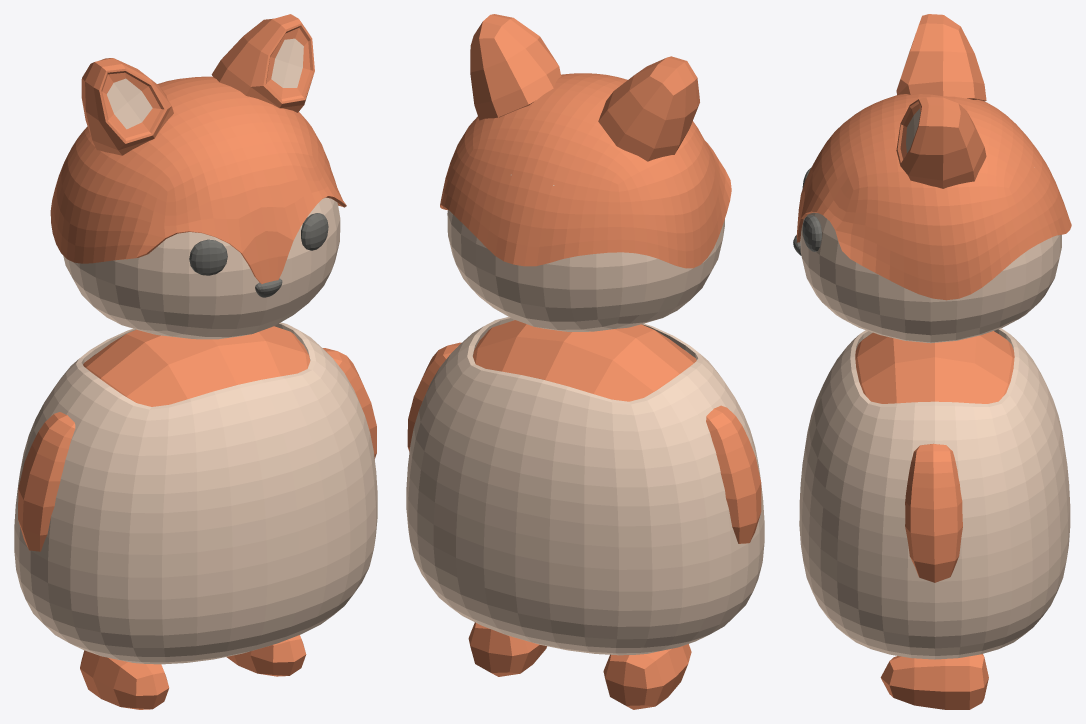
Rendered from foxy.fbx.
3 views of the same model, side by side, from view 1: azimuth 30°, elevation 25°; view 2: azimuth 150°, elevation 25°; view 3: azimuth 270°, elevation 25° (orthographic). The views are drawn at different scales.
Parts seen in each view (by area): view 1: Cube.006, Cube.008, Cube.009; view 2: Cube.006, Cube.008; view 3: Cube.006, Cube.008, Cube.009.
Part boxes in pixels (x1,y1,x2,y2): Cube.006: (14, 322, 377, 709); Cube.008: (50, 14, 346, 339); Cube.009: (189, 213, 328, 275); Cube.006: (406, 317, 764, 709); Cube.008: (440, 14, 731, 331); Cube.006: (799, 328, 1070, 709); Cube.008: (793, 14, 1071, 343); Cube.009: (802, 168, 821, 251).
Bounding box in the file's own units: 1000 × 1772 × 726.
